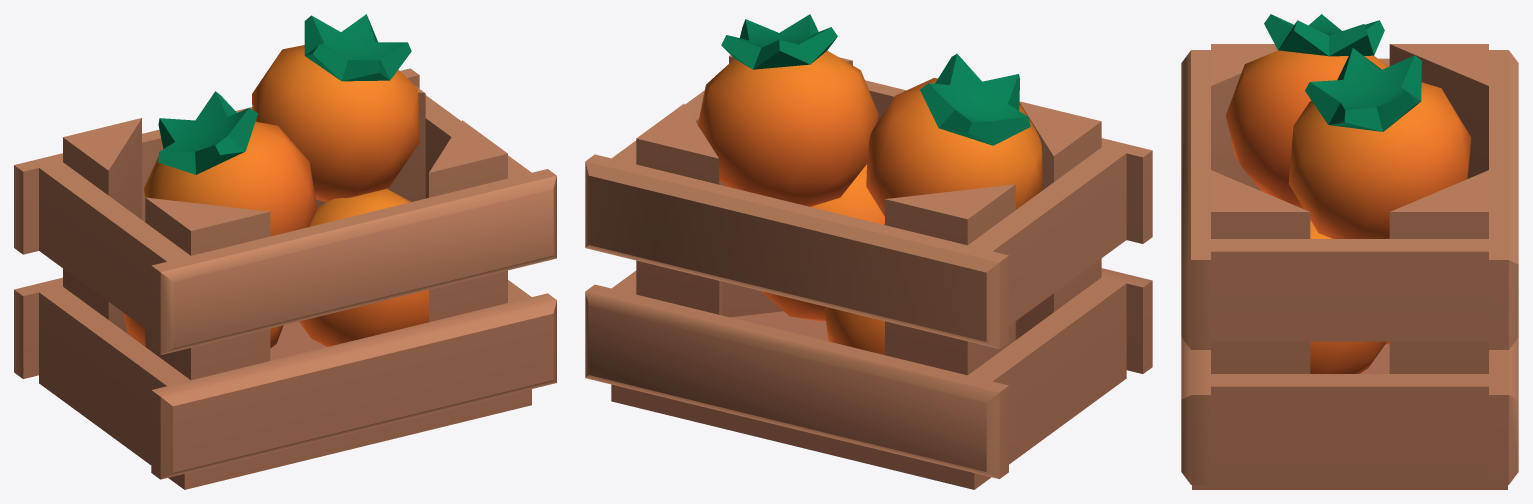
File: Food_Crate_Small_Berries.fbx
3 views of the same model, side by side, from view 1: azimuth 30°, elevation 25°; view 2: azimuth 150°, elevation 25°; view 3: azimuth 270°, elevation 25° (orthographic). The views are drawn at different scales.
Parts seen in each view (by area): view 1: Food_Crate_Small_Berries; view 2: Food_Crate_Small_Berries; view 3: Food_Crate_Small_Berries.
Part boxes in pixels (x1,y1,x2,y2): Food_Crate_Small_Berries: (14, 14, 556, 489); Food_Crate_Small_Berries: (585, 14, 1152, 489); Food_Crate_Small_Berries: (1181, 14, 1518, 489).
Size of the model in its own units: 0.5546 by 0.4591 by 0.3772.
